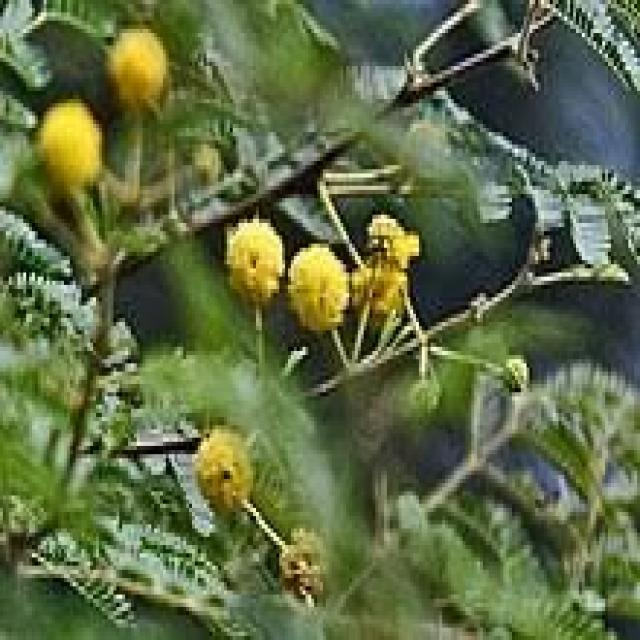organic waste: (214, 208, 284, 308), (39, 93, 115, 180), (196, 421, 258, 520), (297, 238, 346, 328), (114, 35, 180, 101)
